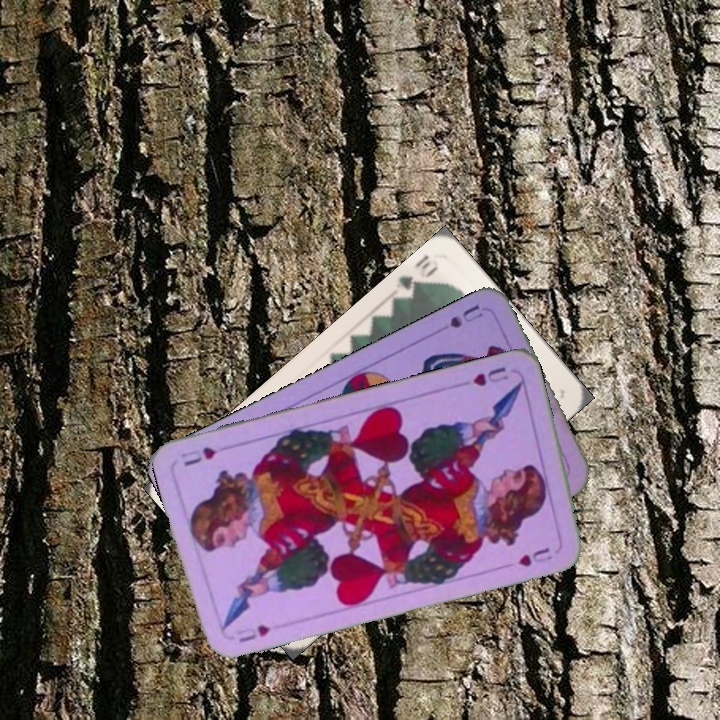G10: (394, 251, 441, 302)
HU: (469, 362, 511, 389), (235, 620, 273, 645)
SU: (431, 300, 486, 338)
